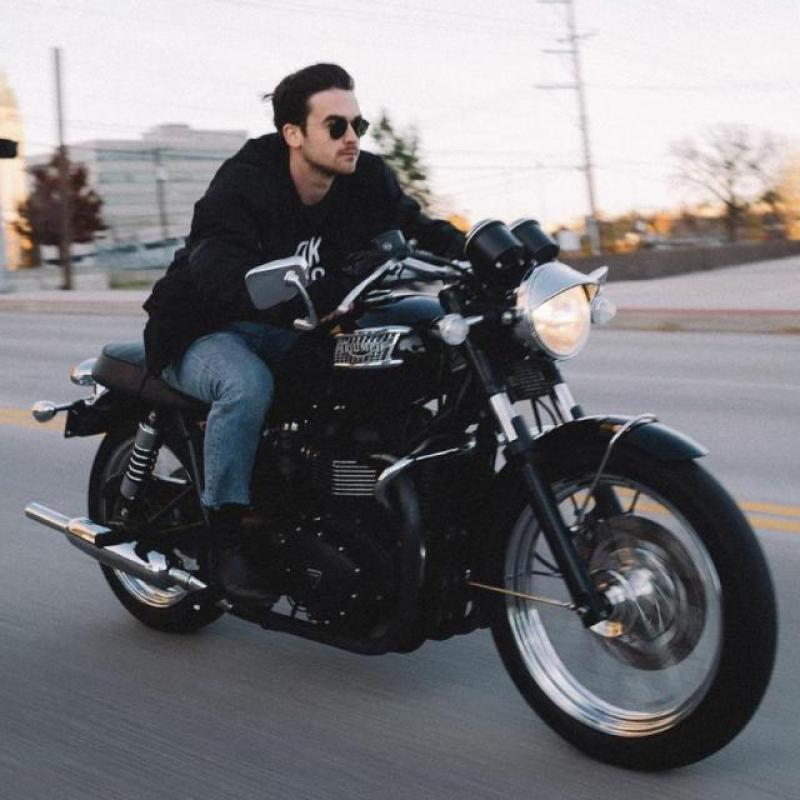nohelmet: (255, 57, 390, 182)
